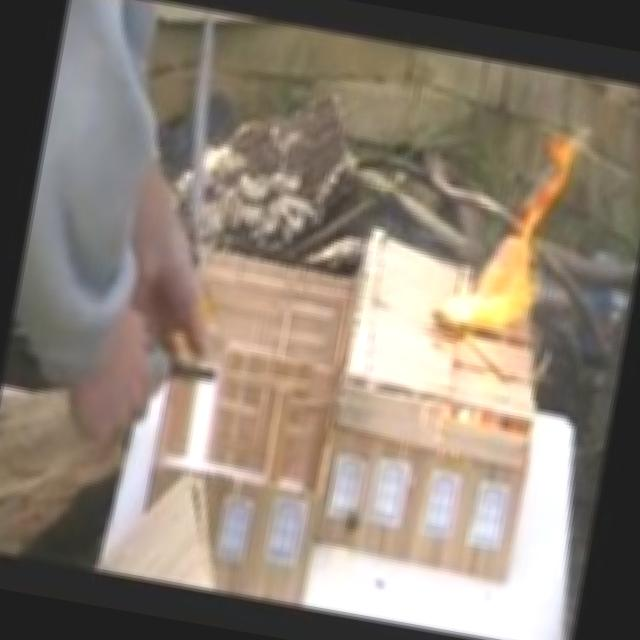fire: (441, 122, 578, 340)
